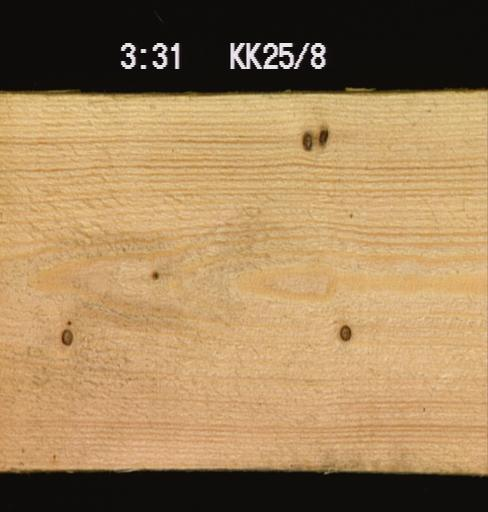dry_knot: (337, 323, 351, 341), (59, 327, 72, 346), (301, 130, 312, 150), (317, 126, 328, 144)
small_knot: (150, 267, 160, 280)
